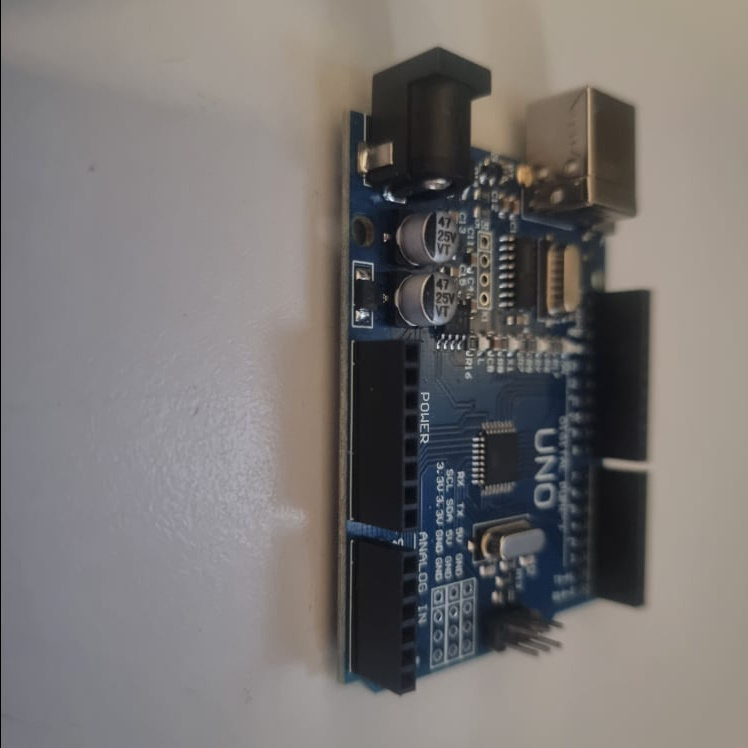UNO R3: (332, 46, 656, 697)
